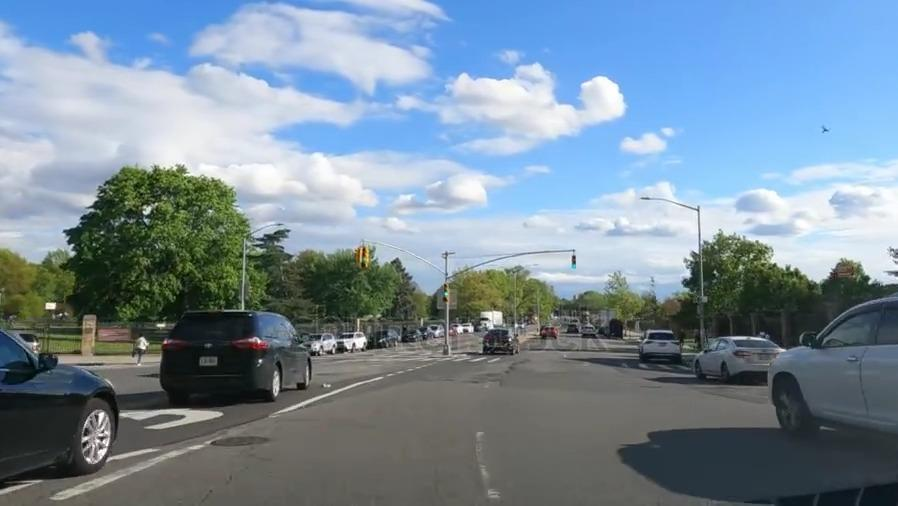bird: (635, 328, 679, 361), (542, 326, 557, 338)
car: (2, 317, 124, 484), (772, 318, 898, 442), (159, 305, 314, 401), (696, 334, 782, 384), (9, 321, 45, 356), (480, 326, 521, 355), (302, 328, 337, 355), (338, 329, 367, 354), (369, 329, 399, 349), (400, 327, 423, 343)
manhole: (207, 430, 273, 454)
pedestrian: (454, 353, 694, 375), (312, 353, 454, 364)
person: (131, 329, 150, 364), (818, 120, 831, 139), (758, 324, 770, 339), (695, 328, 702, 348), (679, 329, 686, 346)
rubbish: (320, 381, 332, 389)
traffic light: (353, 242, 371, 273), (442, 280, 450, 305), (570, 250, 578, 271)
wheel: (74, 393, 114, 471), (770, 373, 812, 431)
